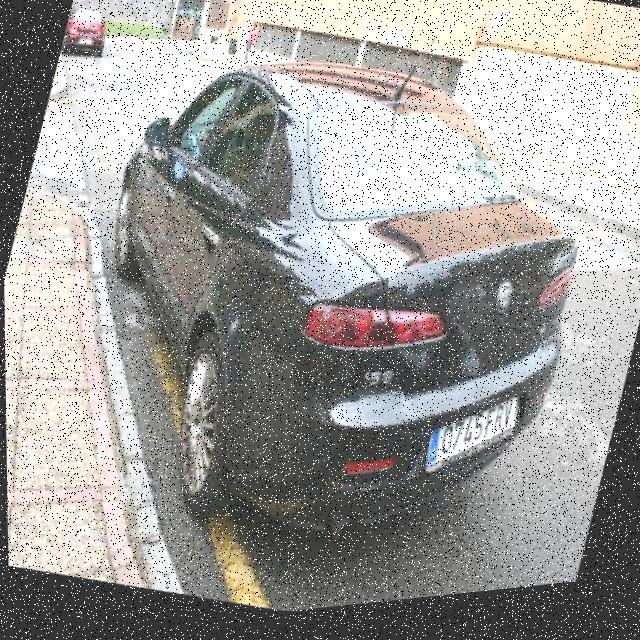license_plate: (417, 385, 520, 502), (78, 38, 92, 48)
